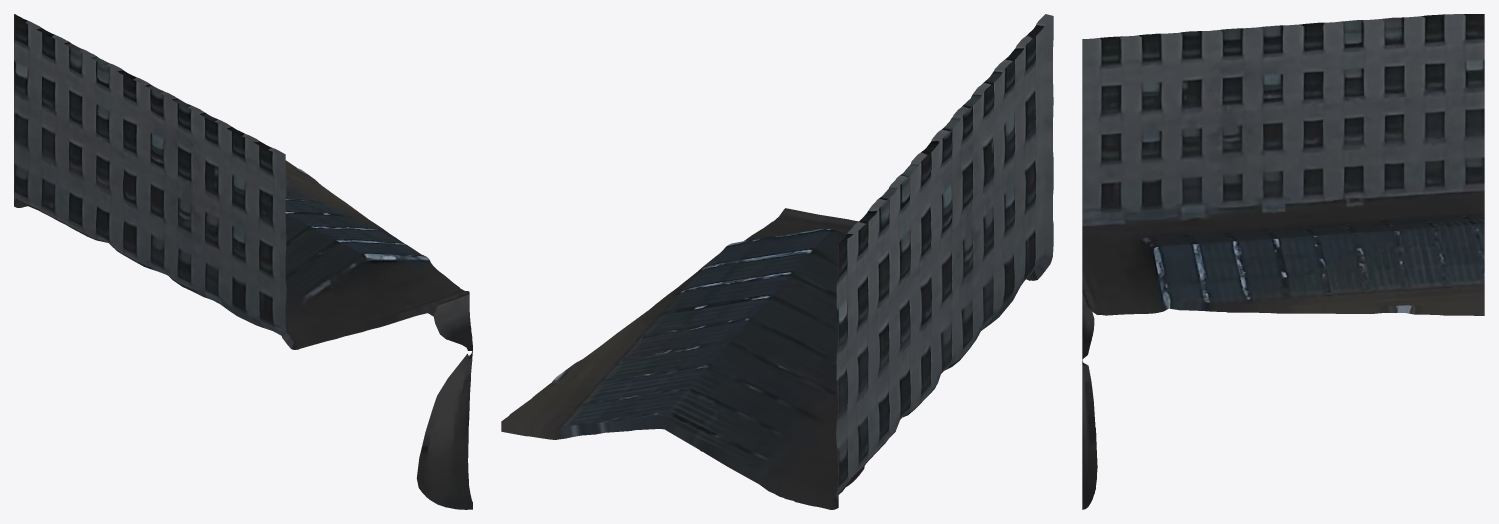
Rendered from z20-167768-405234-h0-yup-uvflip-v3-world.glb.
3 renders of one model, left to right at view 1: azimuth 30°, elevation 25°; view 2: azimuth 150°, elevation 25°; view 3: azimuth 270°, elevation 25°, orthographic. The views are drawn at different scales.
Size of the model in its own units: 20.44 by 31.68 by 30.32.
Materials: 1 (1 with a texture image).
